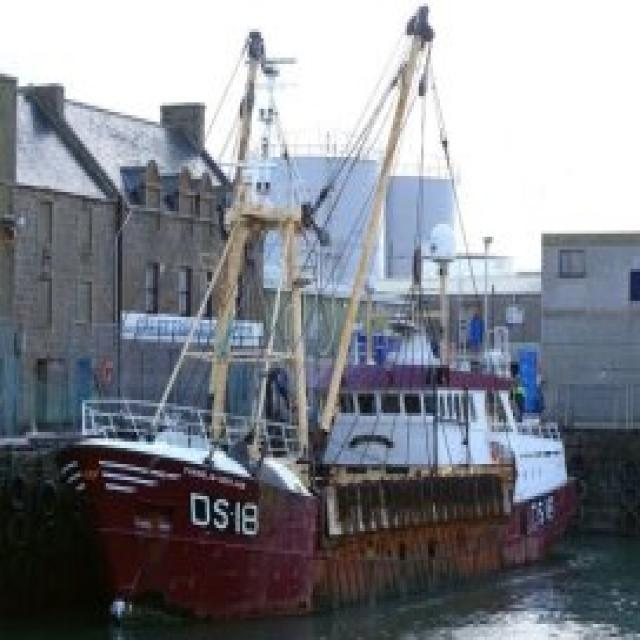Ship: (51, 20, 597, 628)
